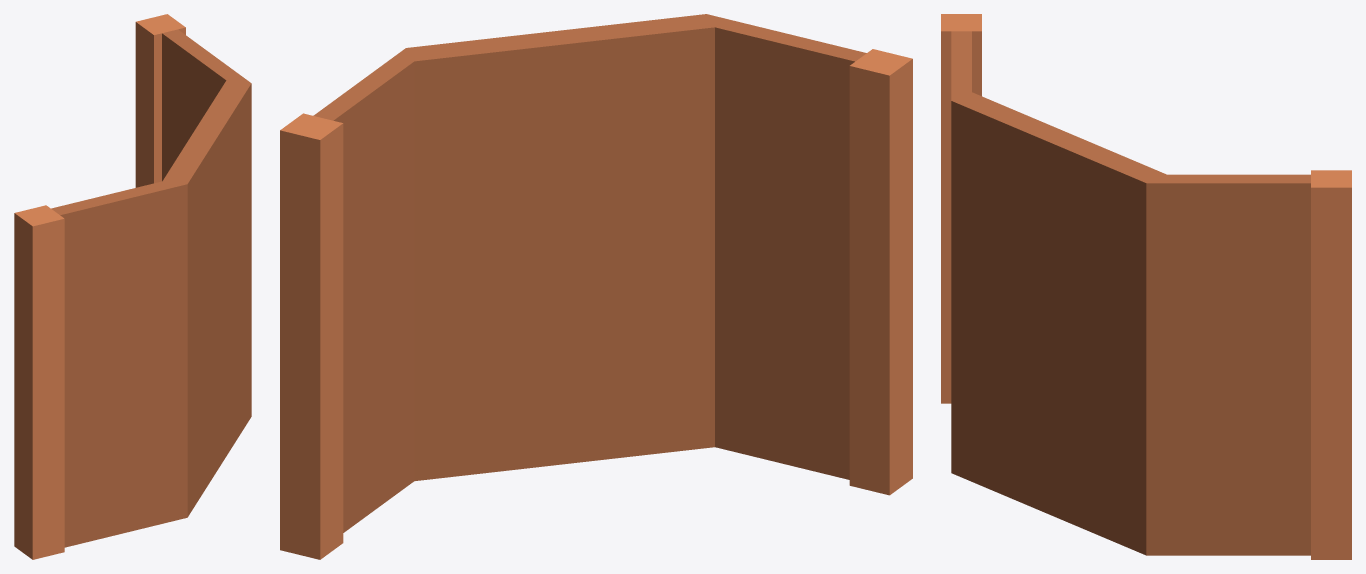
The model's file is wallWoodCornerDiagonal.fbx.
The picture shows the model from 3 angles, left to right: view 1: azimuth 30°, elevation 25°; view 2: azimuth 150°, elevation 25°; view 3: azimuth 270°, elevation 25°; orthographic projection. The views are drawn at different scales.
Visible parts, largest first — view 1: wallWoodCornerDiagonal; view 2: wallWoodCornerDiagonal; view 3: wallWoodCornerDiagonal.
Boxes of the visible parts, x1=… form: wallWoodCornerDiagonal: x1=14, y1=14, x2=251, y2=559; wallWoodCornerDiagonal: x1=280, y1=14, x2=912, y2=559; wallWoodCornerDiagonal: x1=941, y1=14, x2=1351, y2=559.
Bounding box in the file's own units: 10 × 10 × 10.
